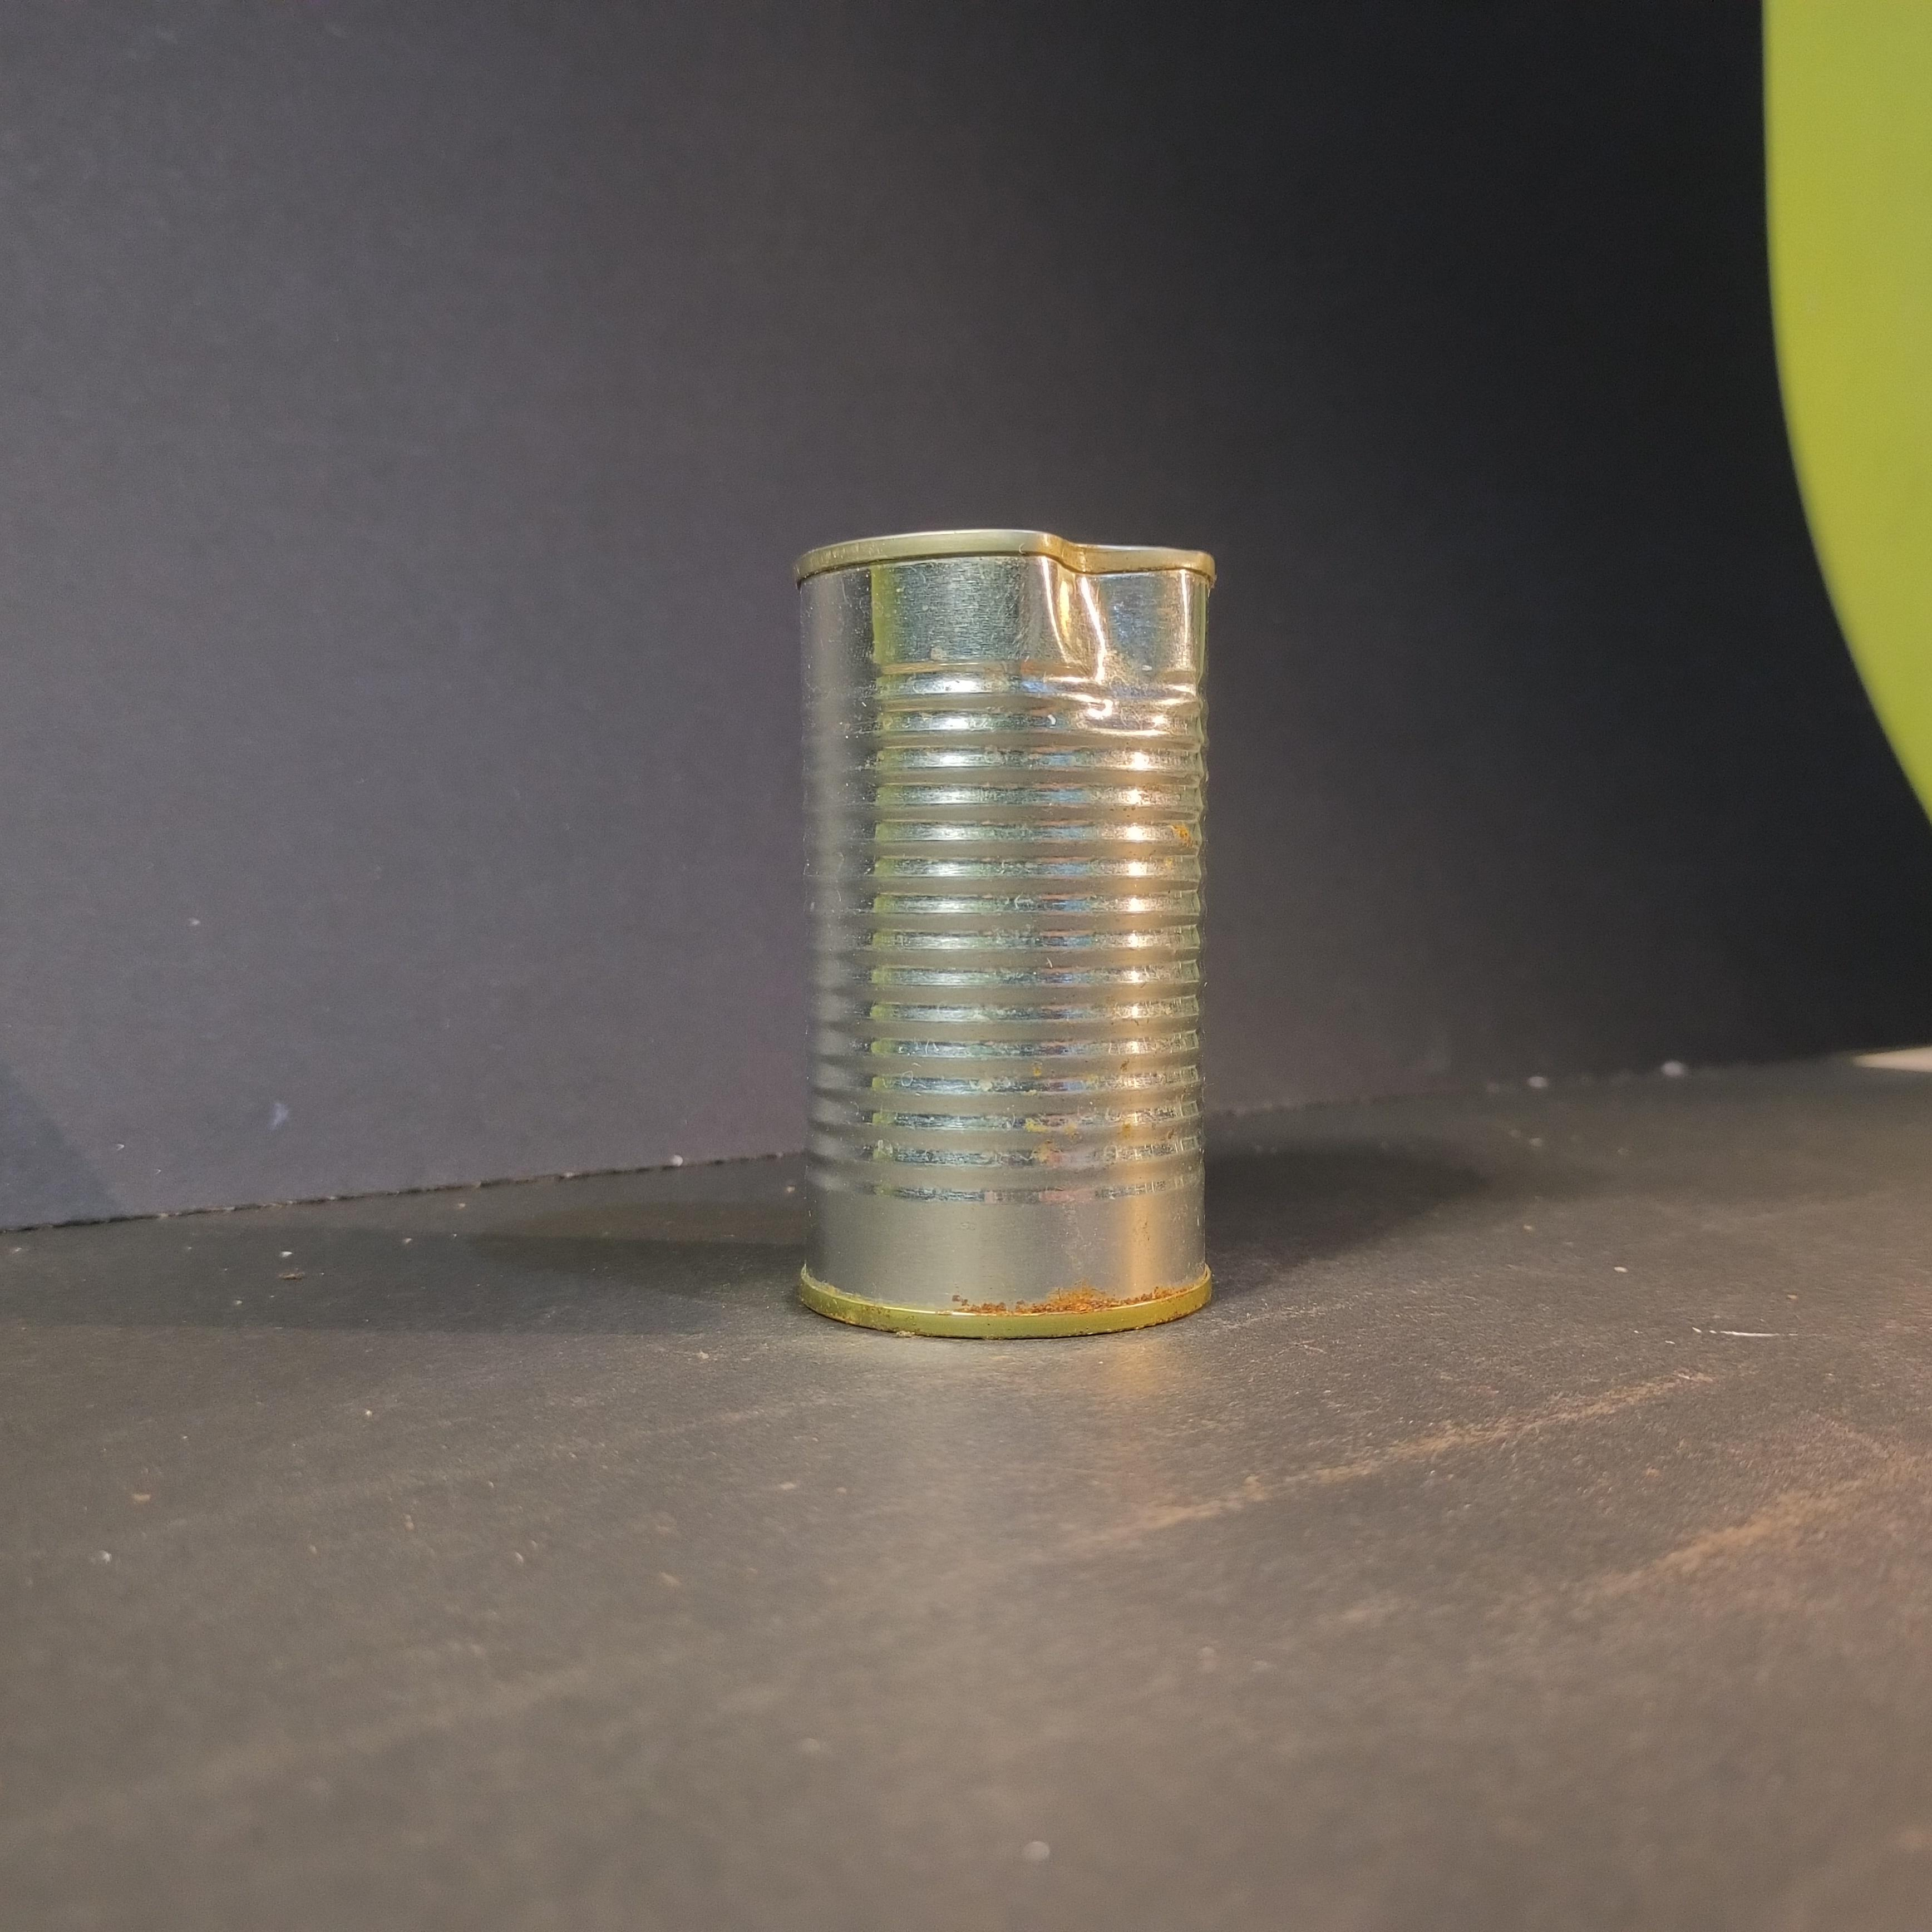Critical Defect: (787, 525, 1219, 1345)
